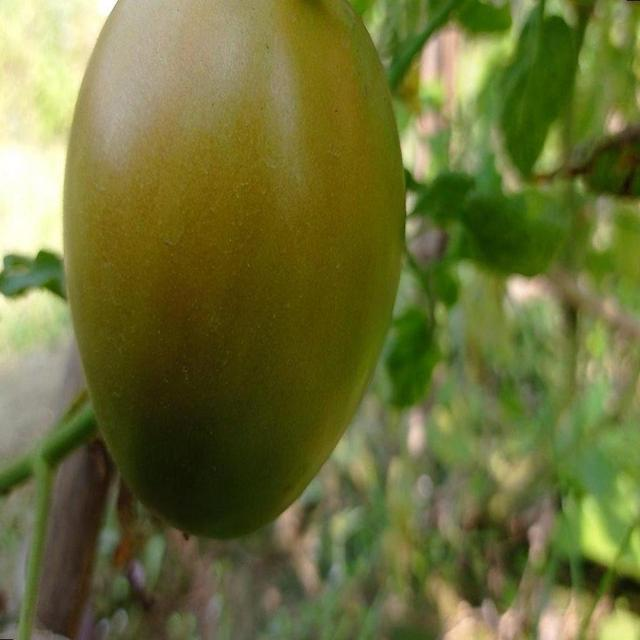Healthy Fruit: (31, 0, 276, 368)
